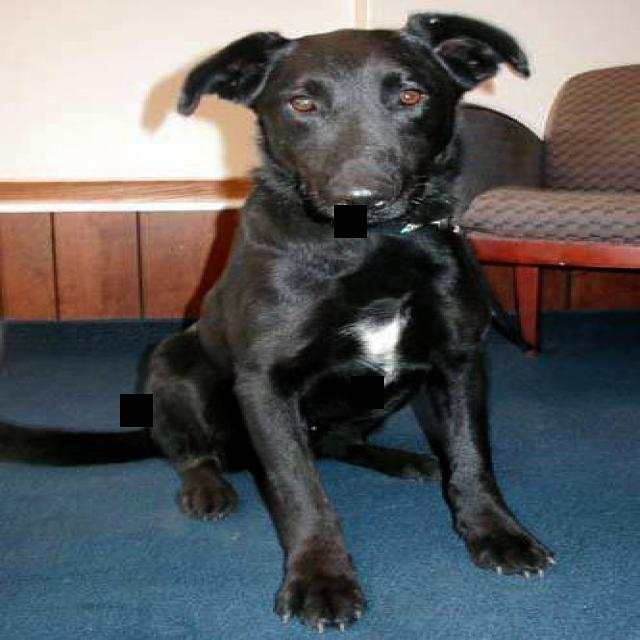adult_dog: (0, 5, 558, 634)
